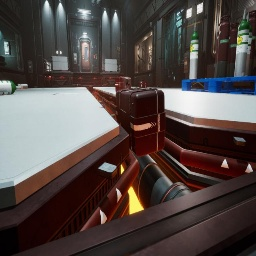0: (234, 8, 250, 77), (189, 22, 199, 79), (245, 12, 252, 76), (0, 81, 22, 95), (15, 84, 28, 89)
EmergencyPhone ,: (30, 74, 33, 79), (155, 69, 157, 76), (95, 53, 97, 58)
FireAlarm ,: (94, 55, 95, 59)
FireExtinguisher ]: (102, 84, 108, 87)
FirstAidBox ,: (115, 88, 165, 157), (115, 76, 131, 92), (139, 79, 147, 88), (58, 70, 62, 71)
NitrogenTank ,: (216, 15, 230, 78), (226, 22, 239, 78), (246, 10, 256, 76), (214, 23, 221, 78), (72, 84, 82, 88), (89, 86, 93, 93), (107, 71, 110, 72)
SafetySwitchPanel ,: (184, 52, 190, 73), (4, 42, 10, 55), (28, 60, 33, 73), (73, 53, 77, 64)
